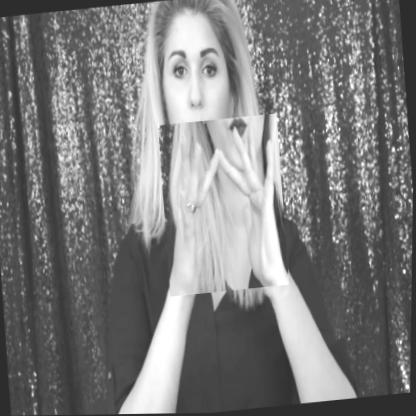Internet: (156, 114, 292, 298)
